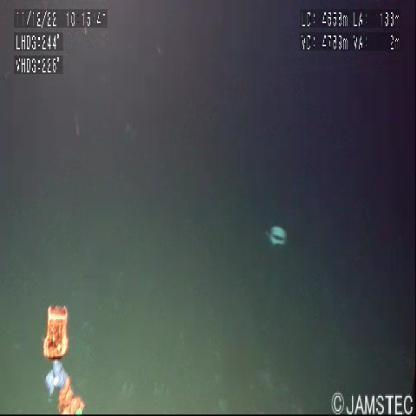Rác: (270, 227, 286, 247)
